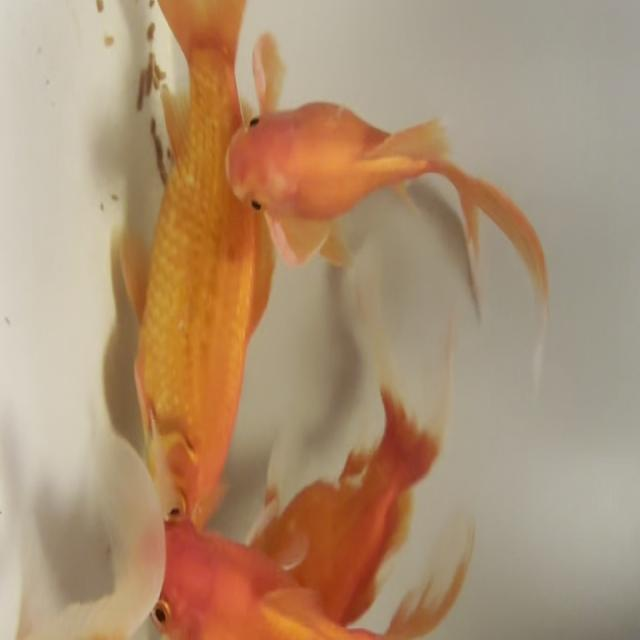fish: (227, 1, 528, 355), (138, 0, 264, 523), (116, 481, 496, 640), (281, 382, 444, 599)
